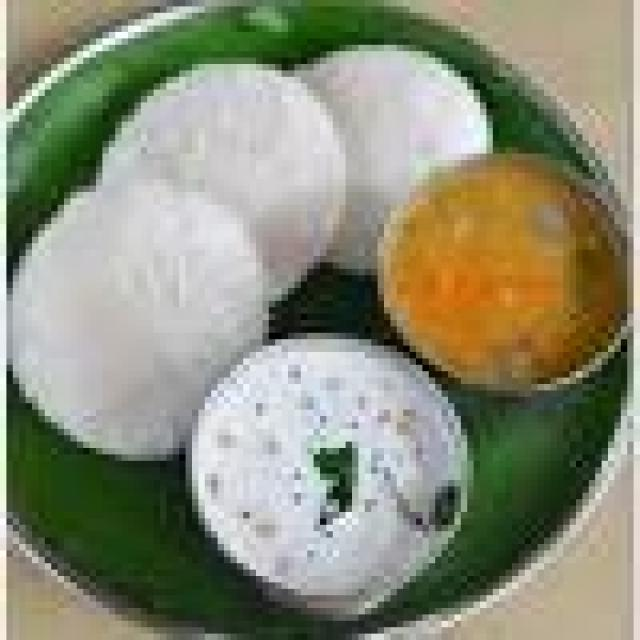Wet Waste: (179, 333, 480, 589), (6, 179, 269, 442), (96, 58, 333, 307), (282, 38, 492, 276)
